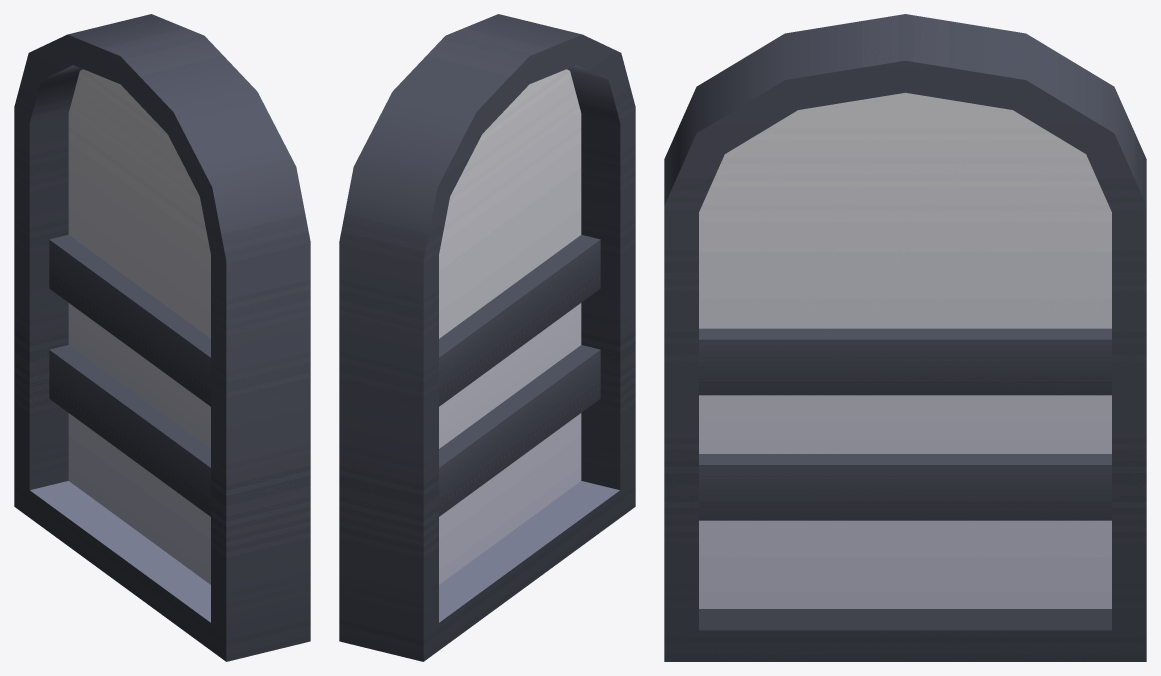
File: gate.glb
The picture shows the model from 3 angles, left to right: view 1: azimuth 30°, elevation 25°; view 2: azimuth 150°, elevation 25°; view 3: azimuth 270°, elevation 25°; orthographic projection. The views are drawn at different scales.
Visible parts, largest first — view 1: gate; view 2: gate; view 3: gate.
Boxes of the visible parts, x1=… form: gate: x1=14, y1=14, x2=310, y2=661; gate: x1=339, y1=14, x2=635, y2=661; gate: x1=664, y1=14, x2=1146, y2=661.
Size of the model in its own units: 0.4548 by 2.73 by 1.99.
Materials: 1 (1 with a texture image).
